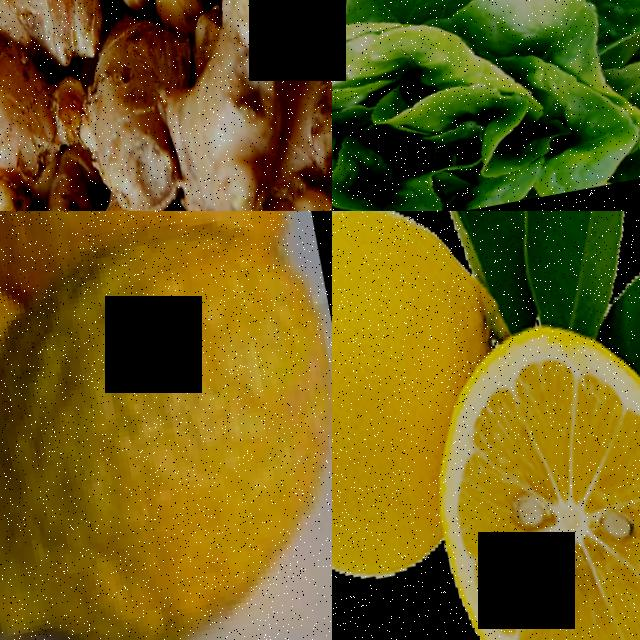ginger: (43, 0, 308, 211), (0, 0, 121, 211)
lemon: (0, 268, 332, 640), (409, 309, 640, 640), (332, 211, 450, 598)
lettuce: (332, 0, 640, 211)
